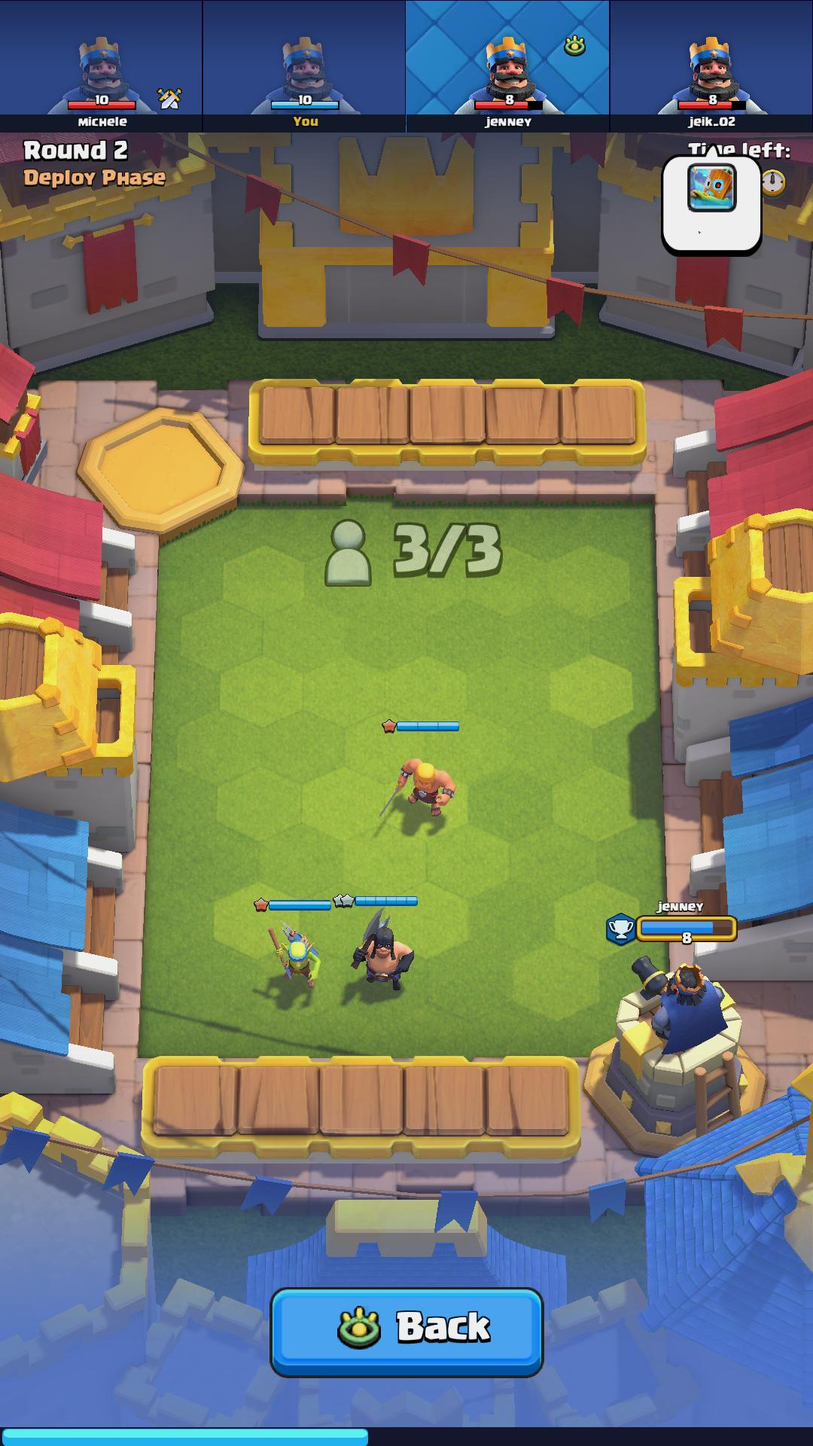barbarian: (385, 749, 460, 820)
executioner: (348, 913, 418, 994)
spear: (255, 919, 330, 988)
